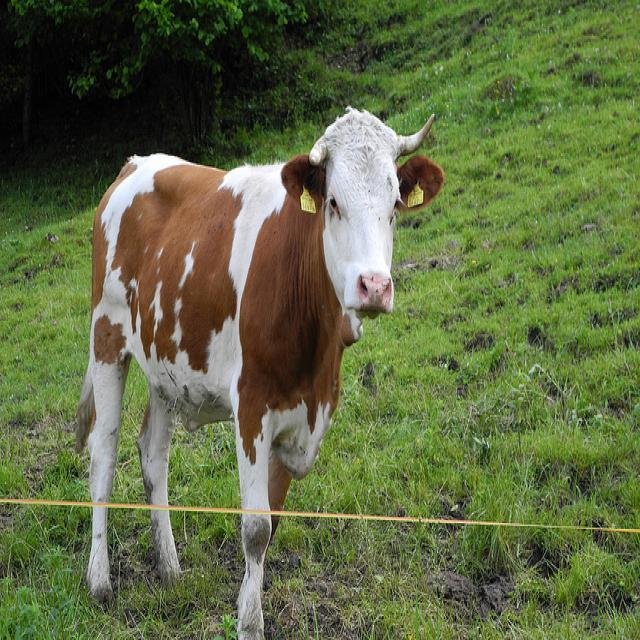cow: (70, 99, 443, 631)
